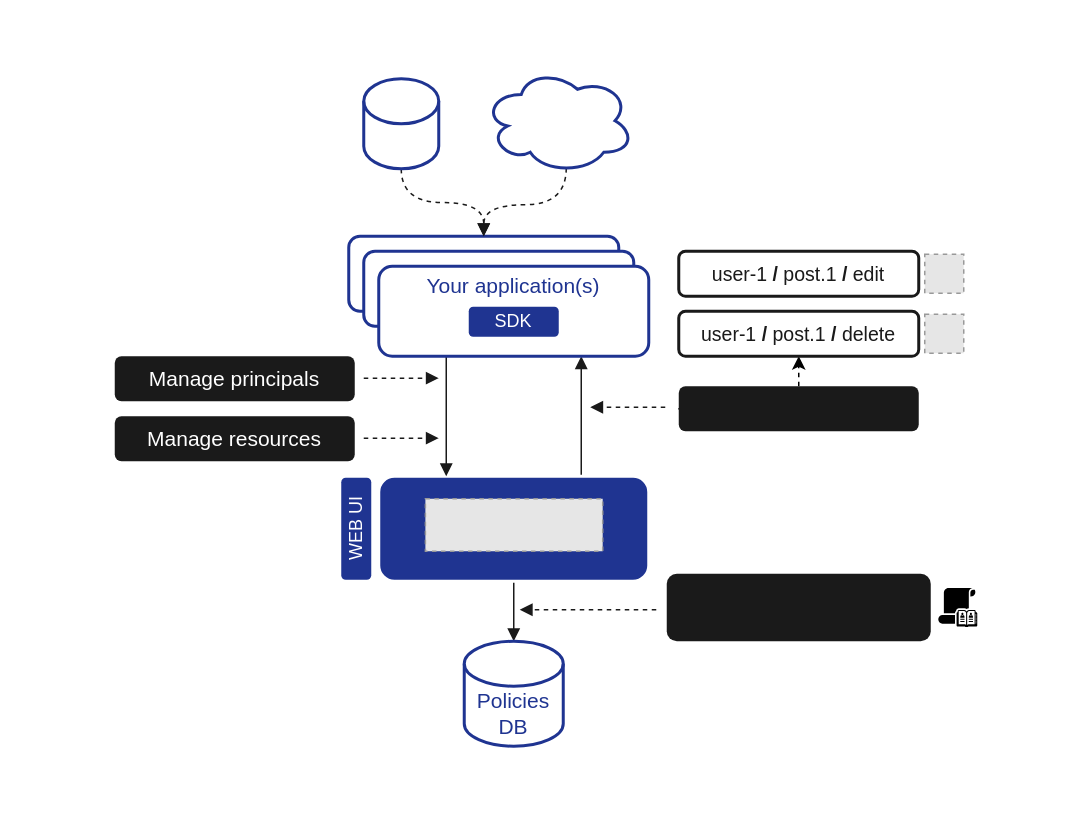
The diagram is 1079 pixels wide and 831 high, and some of its shapes have lost their labels. Grey dashed boxes stand in for pictures. Each missing label, with the centre of its shape:
Check authorizations: (798,408)
DB: (401,123)
Match principals with resources: (798,606)
Services: (558,120)
